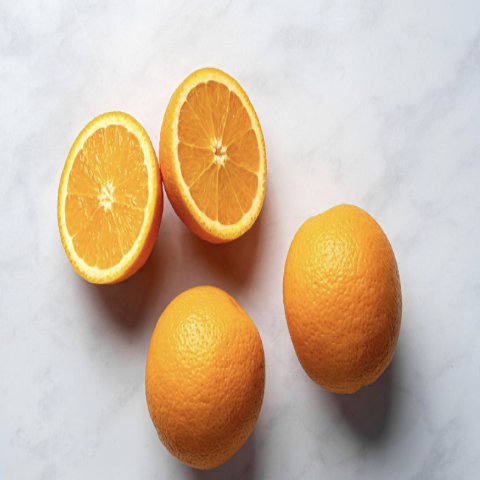orange: (271, 200, 408, 398), (134, 280, 274, 466)
